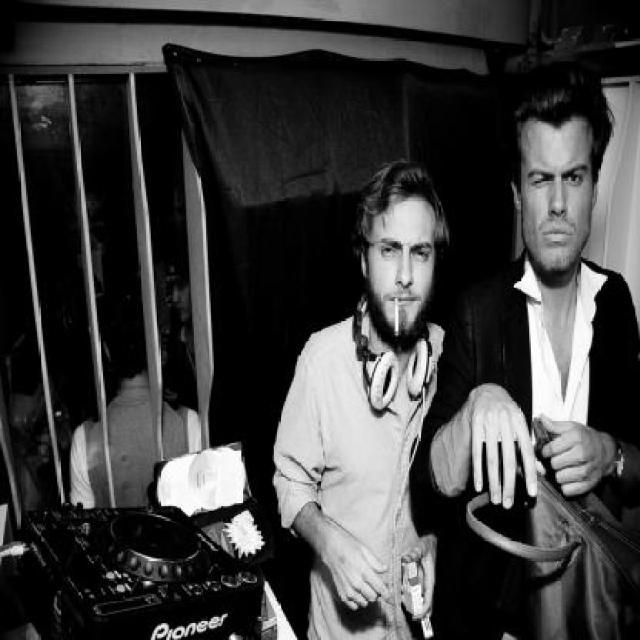earphone: (367, 308, 438, 417)
